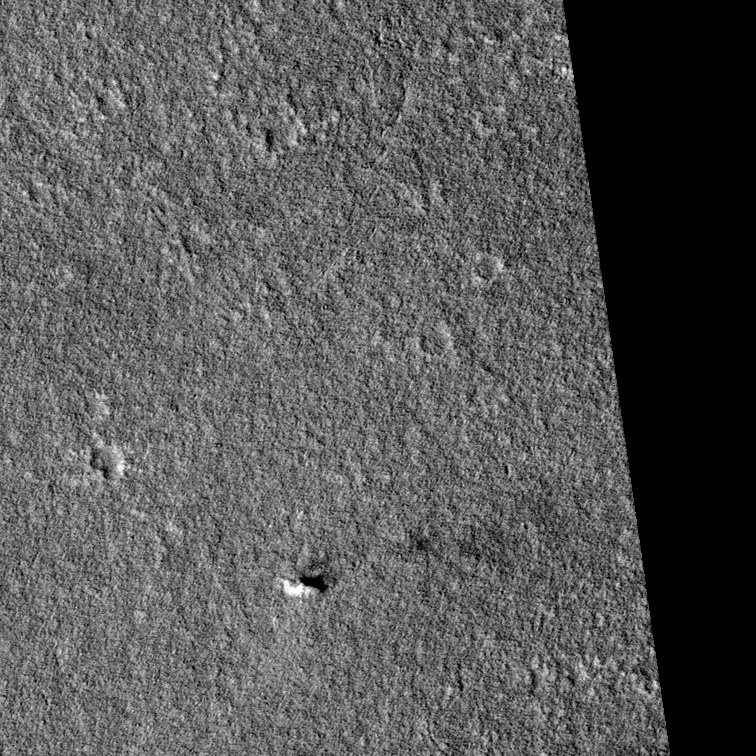dust_devil: (279, 571, 331, 598)
